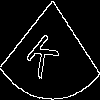K: (25, 24, 66, 81)
